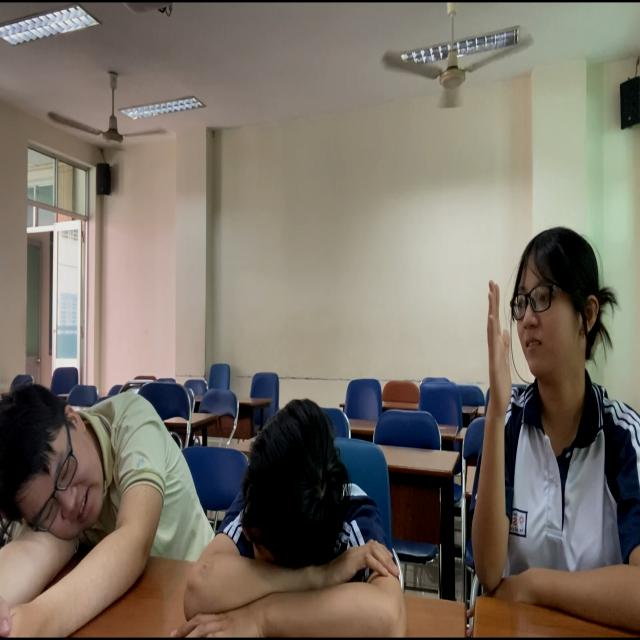raise_hand: (455, 183, 640, 640)
sleep: (184, 399, 408, 640)
